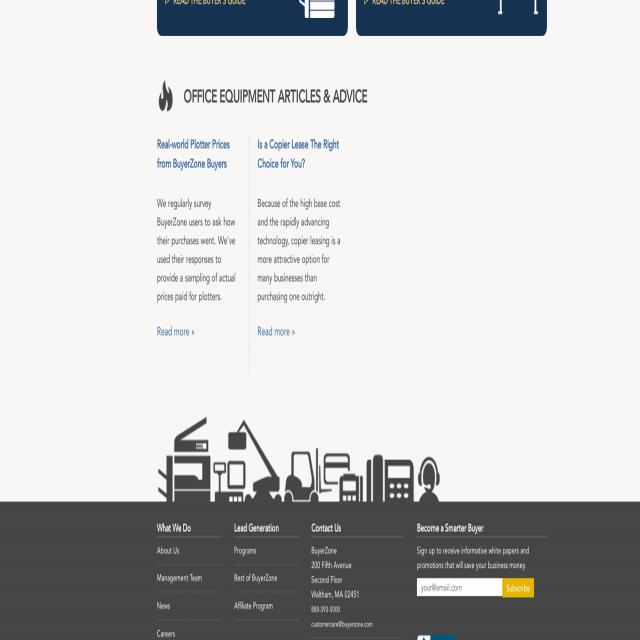button: (356, 0, 548, 37), (157, 0, 347, 36), (502, 578, 534, 598), (416, 633, 455, 640)
field: (417, 578, 502, 596)
